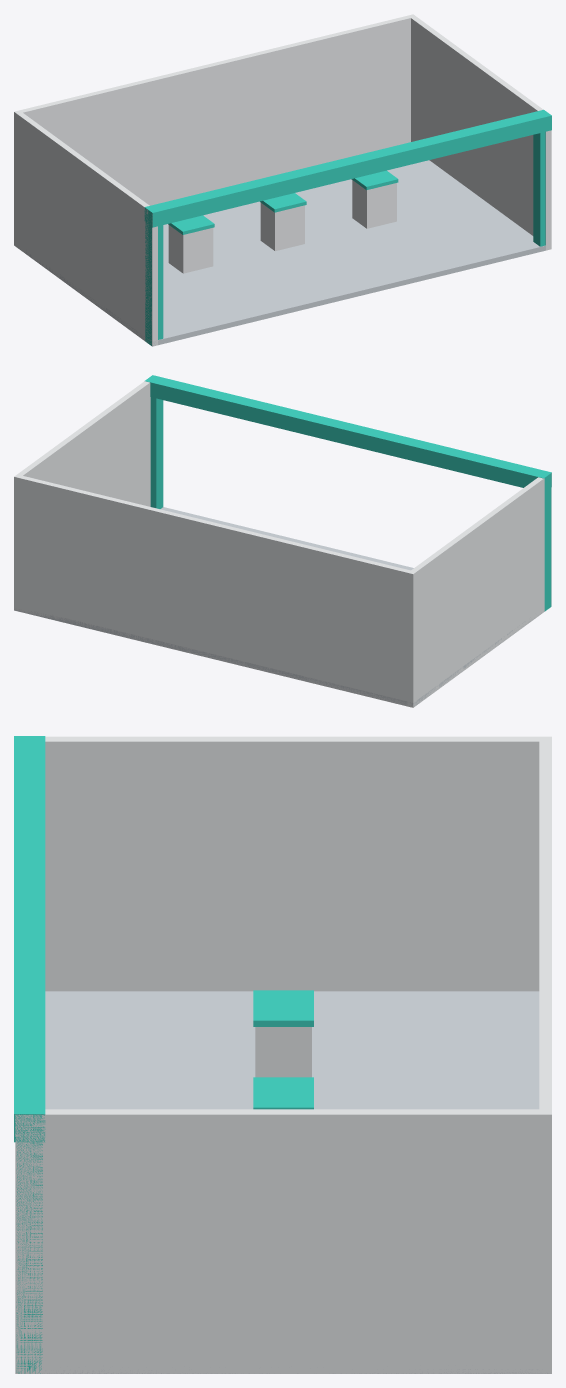
3 views of the same model, one above another, from view 1: azimuth 30°, elevation 25°; view 2: azimuth 150°, elevation 25°; view 3: azimuth 270°, elevation 25° (orthographic). The views are drawn at different scales.
Parts seen in each view (by area): view 1: Exhibition Booth Concept; view 2: Exhibition Booth Concept; view 3: Exhibition Booth Concept.
Part boxes in pixels (bbox=[...]): Exhibition Booth Concept: bbox=[14, 14, 551, 346]; Exhibition Booth Concept: bbox=[14, 375, 551, 707]; Exhibition Booth Concept: bbox=[14, 736, 551, 1373].
Size of the model in its own units: 10 by 3.2 by 6.02.
